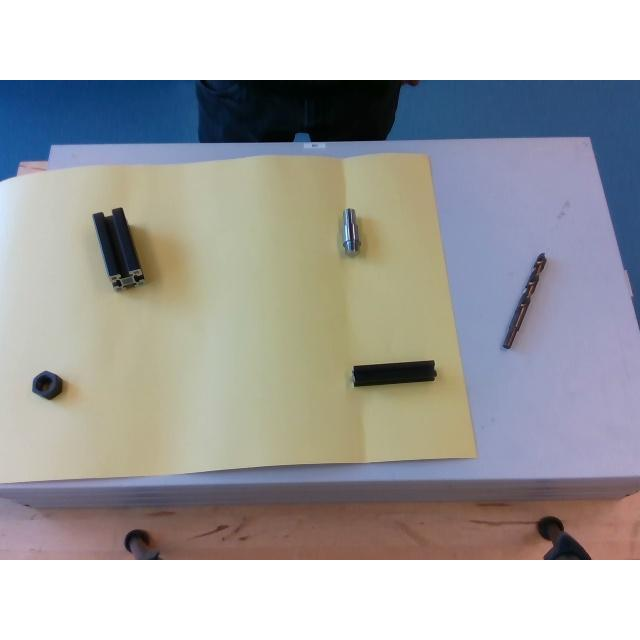Axis2: (341, 208, 359, 252)
Drill: (502, 253, 544, 347)
M20: (29, 370, 62, 400)
S40_40_B: (93, 208, 143, 288), (352, 360, 436, 386)
